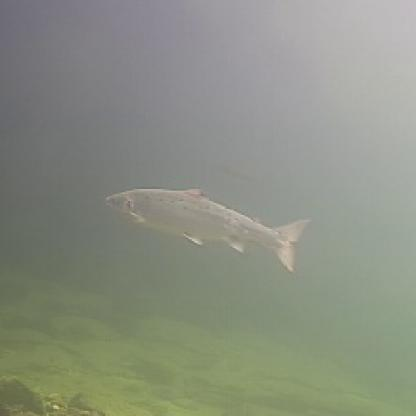salmon: (99, 179, 308, 272)
